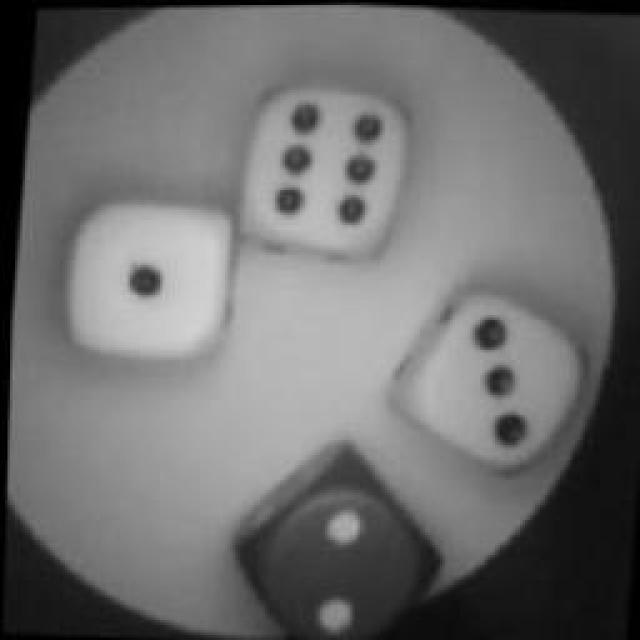dice_1: (56, 181, 244, 374)
dice_2: (224, 437, 447, 640)
dice_3: (399, 288, 596, 462)
dice_6: (231, 64, 411, 268)
